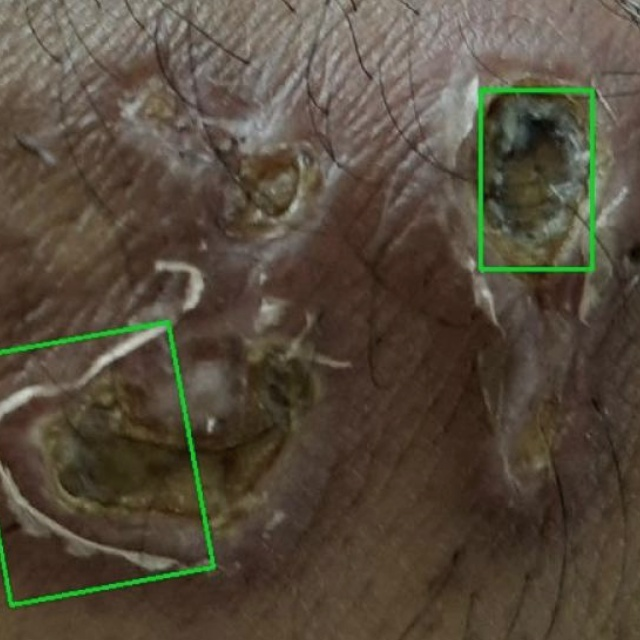Contact Dermatitis: (0, 322, 213, 605), (480, 90, 592, 269)
